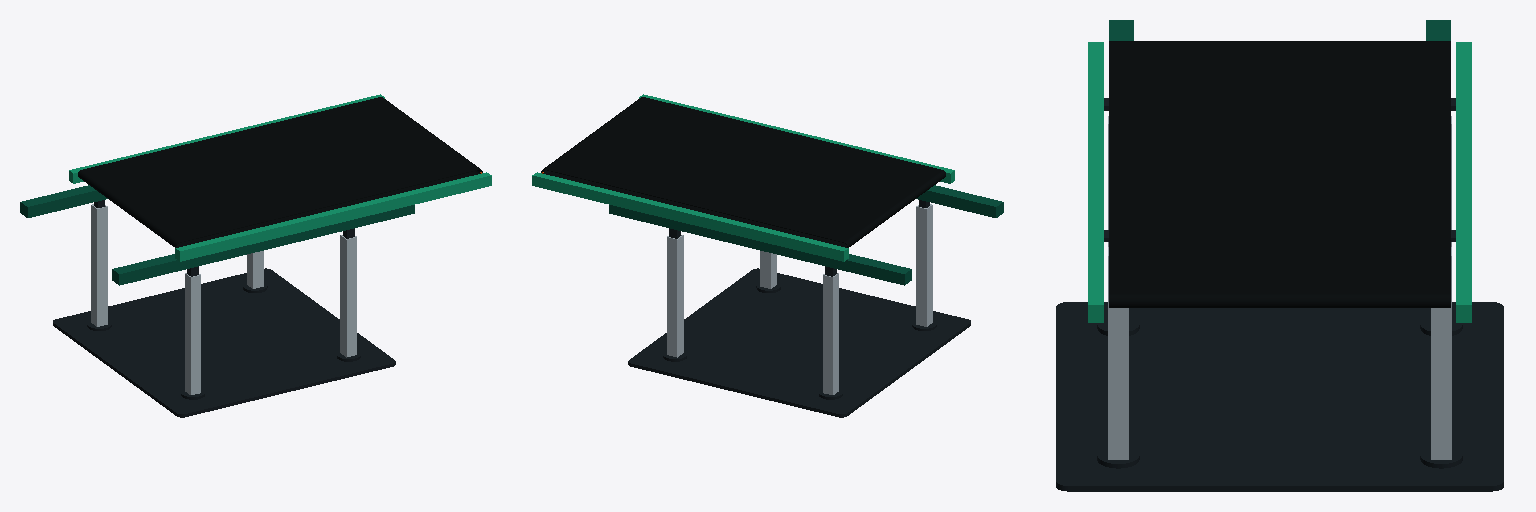
The robot description file, URDF, robot "bellybot_dock_stack_C":
<?xml version='1.0' encoding='utf-8'?>
<robot name="bellybot_dock_stack_C">
  <!--Explicit SI joints by default; independent nested stages. CAD-derived inertia uses assigned link mass, not hardware measurement.-->
  <link name="infeed_base">
    <inertial>
      <origin xyz="-1.55 -5.877920134e-18 0.0235225214" rpy="0 0 0" />
      <mass value="24" />
      <inertia ixx="1.2068316368399978" iyy="1.1424177104143443" izz="2.1451712364846838" ixy="-6.159746811207409e-16" ixz="-1.2840512463079819e-15" iyz="1.9229885800391717e-16" />
    </inertial>
    <visual name="infeed_spreader">
      <geometry>
        <mesh filename="package://bellybot_dock_stack_description/meshes/infeed_spreader.stl" scale="0.001 0.001 0.001" />
      </geometry>
      <material name="dark">
        <color rgba="0.12 0.15 0.17 1" />
      </material>
    </visual>
    <visual name="infeed_leg_-1800_-260">
      <geometry>
        <mesh filename="package://bellybot_dock_stack_description/meshes/infeed_leg_-1800_-260.stl" scale="0.001 0.001 0.001" />
      </geometry>
      <material name="silver">
        <color rgba="0.68 0.73 0.76 1" />
      </material>
    </visual>
    <visual name="infeed_foot_-1800_-260">
      <geometry>
        <mesh filename="package://bellybot_dock_stack_description/meshes/infeed_foot_-1800_-260.stl" scale="0.001 0.001 0.001" />
      </geometry>
      <material name="dark">
        <color rgba="0.12 0.15 0.17 1" />
      </material>
    </visual>
    <visual name="infeed_leg_-1800_260">
      <geometry>
        <mesh filename="package://bellybot_dock_stack_description/meshes/infeed_leg_-1800_260.stl" scale="0.001 0.001 0.001" />
      </geometry>
      <material name="silver">
        <color rgba="0.68 0.73 0.76 1" />
      </material>
    </visual>
    <visual name="infeed_foot_-1800_260">
      <geometry>
        <mesh filename="package://bellybot_dock_stack_description/meshes/infeed_foot_-1800_260.stl" scale="0.001 0.001 0.001" />
      </geometry>
      <material name="dark">
        <color rgba="0.12 0.15 0.17 1" />
      </material>
    </visual>
    <visual name="infeed_leg_-1300_-260">
      <geometry>
        <mesh filename="package://bellybot_dock_stack_description/meshes/infeed_leg_-1300_-260.stl" scale="0.001 0.001 0.001" />
      </geometry>
      <material name="silver">
        <color rgba="0.68 0.73 0.76 1" />
      </material>
    </visual>
    <visual name="infeed_foot_-1300_-260">
      <geometry>
        <mesh filename="package://bellybot_dock_stack_description/meshes/infeed_foot_-1300_-260.stl" scale="0.001 0.001 0.001" />
      </geometry>
      <material name="dark">
        <color rgba="0.12 0.15 0.17 1" />
      </material>
    </visual>
    <visual name="infeed_leg_-1300_260">
      <geometry>
        <mesh filename="package://bellybot_dock_stack_description/meshes/infeed_leg_-1300_260.stl" scale="0.001 0.001 0.001" />
      </geometry>
      <material name="silver">
        <color rgba="0.68 0.73 0.76 1" />
      </material>
    </visual>
    <visual name="infeed_foot_-1300_260">
      <geometry>
        <mesh filename="package://bellybot_dock_stack_description/meshes/infeed_foot_-1300_260.stl" scale="0.001 0.001 0.001" />
      </geometry>
      <material name="dark">
        <color rgba="0.12 0.15 0.17 1" />
      </material>
    </visual>
    <collision name="infeed_base_collision_0">
      <origin xyz="-1.55 0 0.005" rpy="0 0 0" />
      <geometry>
        <box size="0.7 0.72 0.01" />
      </geometry>
    </collision>
    <collision name="infeed_base_collision_1">
      <origin xyz="-1.8 -0.2755 0.195" rpy="0 0 0" />
      <geometry>
        <box size="0.034 0.003 0.37" />
      </geometry>
    </collision>
    <collision name="infeed_base_collision_2">
      <origin xyz="-1.8 -0.2445 0.195" rpy="0 0 0" />
      <geometry>
        <box size="0.034 0.003 0.37" />
      </geometry>
    </collision>
    <collision name="infeed_base_collision_3">
      <origin xyz="-1.8155 -0.26 0.195" rpy="0 0 0" />
      <geometry>
        <box size="0.003 0.028 0.37" />
      </geometry>
    </collision>
    <collision name="infeed_base_collision_4">
      <origin xyz="-1.7845 -0.26 0.195" rpy="0 0 0" />
      <geometry>
        <box size="0.003 0.028 0.37" />
      </geometry>
    </collision>
    <collision name="infeed_base_collision_5">
      <origin xyz="-1.8 0.2445 0.195" rpy="0 0 0" />
      <geometry>
        <box size="0.034 0.003 0.37" />
      </geometry>
    </collision>
    <collision name="infeed_base_collision_6">
      <origin xyz="-1.8 0.2755 0.195" rpy="0 0 0" />
      <geometry>
        <box size="0.034 0.003 0.37" />
      </geometry>
    </collision>
    <collision name="infeed_base_collision_7">
      <origin xyz="-1.8155 0.26 0.195" rpy="0 0 0" />
      <geometry>
        <box size="0.003 0.028 0.37" />
      </geometry>
    </collision>
    <collision name="infeed_base_collision_8">
      <origin xyz="-1.7845 0.26 0.195" rpy="0 0 0" />
      <geometry>
        <box size="0.003 0.028 0.37" />
      </geometry>
    </collision>
    <collision name="infeed_base_collision_9">
      <origin xyz="-1.3 -0.2755 0.195" rpy="0 0 0" />
      <geometry>
        <box size="0.034 0.003 0.37" />
      </geometry>
    </collision>
    <collision name="infeed_base_collision_10">
      <origin xyz="-1.3 -0.2445 0.195" rpy="0 0 0" />
      <geometry>
        <box size="0.034 0.003 0.37" />
      </geometry>
    </collision>
    <collision name="infeed_base_collision_11">
      <origin xyz="-1.3155 -0.26 0.195" rpy="0 0 0" />
      <geometry>
        <box size="0.003 0.028 0.37" />
      </geometry>
    </collision>
    <collision name="infeed_base_collision_12">
      <origin xyz="-1.2845 -0.26 0.195" rpy="0 0 0" />
      <geometry>
        <box size="0.003 0.028 0.37" />
      </geometry>
    </collision>
    <collision name="infeed_base_collision_13">
      <origin xyz="-1.3 0.2445 0.195" rpy="0 0 0" />
      <geometry>
        <box size="0.034 0.003 0.37" />
      </geometry>
    </collision>
    <collision name="infeed_base_collision_14">
      <origin xyz="-1.3 0.2755 0.195" rpy="0 0 0" />
      <geometry>
        <box size="0.034 0.003 0.37" />
      </geometry>
    </collision>
    <collision name="infeed_base_collision_15">
      <origin xyz="-1.3155 0.26 0.195" rpy="0 0 0" />
      <geometry>
        <box size="0.003 0.028 0.37" />
      </geometry>
    </collision>
    <collision name="infeed_base_collision_16">
      <origin xyz="-1.2845 0.26 0.195" rpy="0 0 0" />
      <geometry>
        <box size="0.003 0.028 0.37" />
      </geometry>
    </collision>
  </link>
  <link name="infeed_lift">
    <inertial>
      <origin xyz="-1.565245999 0 0.3834024944" rpy="0 0 0" />
      <mass value="6" />
      <inertia ixx="0.4436658999461621" iyy="0.48279384397296726" izz="0.8281294701857301" ixy="-2.0989668112935023e-16" ixz="0.0038051732636004594" iyz="-7.871125542350633e-17" />
    </inertial>
    <visual name="infeed_inner_leg_-1800_-260">
      <geometry>
        <mesh filename="package://bellybot_dock_stack_description/meshes/infeed_inner_leg_-1800_-260.stl" scale="0.001 0.001 0.001" />
      </geometry>
      <material name="dark">
        <color rgba="0.12 0.15 0.17 1" />
      </material>
    </visual>
    <visual name="infeed_inner_leg_-1800_260">
      <geometry>
        <mesh filename="package://bellybot_dock_stack_description/meshes/infeed_inner_leg_-1800_260.stl" scale="0.001 0.001 0.001" />
      </geometry>
      <material name="dark">
        <color rgba="0.12 0.15 0.17 1" />
      </material>
    </visual>
    <visual name="infeed_inner_leg_-1300_-260">
      <geometry>
        <mesh filename="package://bellybot_dock_stack_description/meshes/infeed_inner_leg_-1300_-260.stl" scale="0.001 0.001 0.001" />
      </geometry>
      <material name="dark">
        <color rgba="0.12 0.15 0.17 1" />
      </material>
    </visual>
    <visual name="infeed_inner_leg_-1300_260">
      <geometry>
        <mesh filename="package://bellybot_dock_stack_description/meshes/infeed_inner_leg_-1300_260.stl" scale="0.001 0.001 0.001" />
      </geometry>
      <material name="dark">
        <color rgba="0.12 0.15 0.17 1" />
      </material>
    </visual>
    <visual name="infeed_fixed_rail_-255">
      <geometry>
        <mesh filename="package://bellybot_dock_stack_description/meshes/infeed_fixed_rail_-255.stl" scale="0.001 0.001 0.001" />
      </geometry>
      <material name="teal_dark">
        <color rgba="0.07 0.35 0.28 1" />
      </material>
    </visual>
    <visual name="infeed_fixed_rail_255">
      <geometry>
        <mesh filename="package://bellybot_dock_stack_description/meshes/infeed_fixed_rail_255.stl" scale="0.001 0.001 0.001" />
      </geometry>
      <material name="teal_dark">
        <color rgba="0.07 0.35 0.28 1" />
      </material>
    </visual>
    <collision name="infeed_lift_collision_0">
      <origin xyz="-1.8 -0.26 0.25" rpy="0 0 0" />
      <geometry>
        <box size="0.024 0.024 0.36" />
      </geometry>
    </collision>
    <collision name="infeed_lift_collision_1">
      <origin xyz="-1.8 0.26 0.25" rpy="0 0 0" />
      <geometry>
        <box size="0.024 0.024 0.36" />
      </geometry>
    </collision>
    <collision name="infeed_lift_collision_2">
      <origin xyz="-1.3 -0.26 0.25" rpy="0 0 0" />
      <geometry>
        <box size="0.024 0.024 0.36" />
      </geometry>
    </collision>
    <collision name="infeed_lift_collision_3">
      <origin xyz="-1.3 0.26 0.25" rpy="0 0 0" />
      <geometry>
        <box size="0.024 0.024 0.36" />
      </geometry>
    </collision>
    <collision name="infeed_lift_collision_4">
      <origin xyz="-1.57 -0.255 0.425" rpy="0 0 0" />
      <geometry>
        <box size="0.95 0.04 0.035" />
      </geometry>
    </collision>
    <collision name="infeed_lift_collision_5">
      <origin xyz="-1.57 0.255 0.425" rpy="0 0 0" />
      <geometry>
        <box size="0.95 0.04 0.035" />
      </geometry>
    </collision>
  </link>
  <joint name="infeed_lift_joint" type="prismatic">
    <parent link="infeed_base" />
    <child link="infeed_lift" />
    <origin xyz="0 0 0" rpy="0 0 0" />
    <axis xyz="0 0 1" />
    <limit velocity="0.12" effort="2000" lower="0" upper="0.25" />
    <dynamics damping="4" friction="0" />
  </joint>
  <link name="infeed_carriage">
    <inertial>
      <origin xyz="-1.401182502 1.418651882e-16 0.4640574163" rpy="0 0 0" />
      <mass value="8" />
      <inertia ixx="0.6097979520435641" iyy="0.5895788149414166" izz="1.1975210749144196" ixy="6.790347573042703e-16" ixz="-0.002680953274879483" iyz="9.525278955185108e-17" />
    </inertial>
    <visual name="infeed_sideframe_-296">
      <geometry>
        <mesh filename="package://bellybot_dock_stack_description/meshes/infeed_sideframe_-296.stl" scale="0.001 0.001 0.001" />
      </geometry>
      <material name="teal">
        <color rgba="0.114 0.62 0.459 1" />
      </material>
    </visual>
    <visual name="infeed_slide_runner_-296">
      <geometry>
        <mesh filename="package://bellybot_dock_stack_description/meshes/infeed_slide_runner_-296.stl" scale="0.001 0.001 0.001" />
      </geometry>
      <material name="silver">
        <color rgba="0.68 0.73 0.76 1" />
      </material>
    </visual>
    <visual name="infeed_sideframe_296">
      <geometry>
        <mesh filename="package://bellybot_dock_stack_description/meshes/infeed_sideframe_296.stl" scale="0.001 0.001 0.001" />
      </geometry>
      <material name="teal">
        <color rgba="0.114 0.62 0.459 1" />
      </material>
    </visual>
    <visual name="infeed_slide_runner_296">
      <geometry>
        <mesh filename="package://bellybot_dock_stack_description/meshes/infeed_slide_runner_296.stl" scale="0.001 0.001 0.001" />
      </geometry>
      <material name="silver">
        <color rgba="0.68 0.73 0.76 1" />
      </material>
    </visual>
    <visual name="infeed_crossbar_-1700">
      <geometry>
        <mesh filename="package://bellybot_dock_stack_description/meshes/infeed_crossbar_-1700.stl" scale="0.001 0.001 0.001" />
      </geometry>
      <material name="dark">
        <color rgba="0.12 0.15 0.17 1" />
      </material>
    </visual>
    <visual name="infeed_crossbar_-1200">
      <geometry>
        <mesh filename="package://bellybot_dock_stack_description/meshes/infeed_crossbar_-1200.stl" scale="0.001 0.001 0.001" />
      </geometry>
      <material name="dark">
        <color rgba="0.12 0.15 0.17 1" />
      </material>
    </visual>
    <collision name="infeed_carriage_collision_0">
      <origin xyz="-1.37 -0.296 0.469" rpy="0 0 0" />
      <geometry>
        <box size="1 0.025 0.032" />
      </geometry>
    </collision>
    <collision name="infeed_carriage_collision_1">
      <origin xyz="-1.37 0.296 0.469" rpy="0 0 0" />
      <geometry>
        <box size="1 0.025 0.032" />
      </geometry>
    </collision>
  </link>
  <joint name="infeed_extension_joint" type="prismatic">
    <parent link="infeed_lift" />
    <child link="infeed_carriage" />
    <origin xyz="0 0 0" rpy="0 0 0" />
    <axis xyz="1 0 0" />
    <limit velocity="0.12" effort="800" lower="0" upper="0.4" />
    <dynamics damping="4" friction="0" />
  </joint>
  <link name="infeed_belt">
    <inertial>
      <origin xyz="-1.37 1.021548019e-17 0.483" rpy="0 0 0" />
      <mass value="1" />
      <inertia ixx="0.025327570286835223" iyy="0.08249267322965806" izz="0.10758176960948891" ixy="-4.767224087294237e-20" ixz="1.1158028492316222e-16" iyz="-2.9624892542465474e-19" />
    </inertial>
    <visual name="infeed_belt_loop">
      <geometry>
        <mesh filename="package://bellybot_dock_stack_description/meshes/infeed_belt_loop.stl" scale="0.001 0.001 0.001" />
      </geometry>
      <material name="rubber">
        <color rgba="0.07 0.085 0.09 1" />
      </material>
    </visual>
    <collision name="infeed_belt_collision_0">
      <origin xyz="-1.37 0 0.494" rpy="0 0 0" />
      <geometry>
        <box size="0.96 0.55 0.002" />
      </geometry>
    </collision>
  </link>
  <joint name="infeed_belt_mount" type="fixed">
    <parent link="infeed_carriage" />
    <child link="infeed_belt" />
    <origin xyz="0 0 0" rpy="0 0 0" />
  </joint>
  <link name="infeed_rear_roller">
    <inertial>
      <origin xyz="1.751313485e-06 0 2.11253032e-20" rpy="0 0 0" />
      <mass value="0.5" />
      <inertia ixx="0.012532547869235256" iyy="2.4998247152965567e-05" izz="0.012532553121642162" ixy="1.3520194045819096e-20" ixz="-3.020899858598522e-21" iyz="5.408077618327639e-21" />
    </inertial>
    <visual name="infeed_rear_roller_drum">
      <geometry>
        <mesh filename="package://bellybot_dock_stack_description/meshes/infeed_rear_roller_drum.stl" scale="0.001 0.001 0.001" />
      </geometry>
      <material name="silver">
        <color rgba="0.68 0.73 0.76 1" />
      </material>
    </visual>
    <visual name="infeed_rear_roller_index">
      <geometry>
        <mesh filename="package://bellybot_dock_stack_description/meshes/infeed_rear_roller_index.stl" scale="0.001 0.001 0.001" />
      </geometry>
      <material name="orange">
        <color rgba="0.96 0.39 0.06 1" />
      </material>
    </visual>
  </link>
  <joint name="infeed_rear_roller_joint" type="continuous">
    <parent link="infeed_carriage" />
    <child link="infeed_rear_roller" />
    <origin xyz="-1.85 0 0.483" rpy="0 0 0" />
    <axis xyz="0 1 0" />
    <limit velocity="165" effort="20" />
    <dynamics damping=".02" friction="0" />
  </joint>
  <link name="infeed_front_roller">
    <inertial>
      <origin xyz="1.751313485e-06 0 2.11253032e-20" rpy="0 0 0" />
      <mass value="0.5" />
      <inertia ixx="0.012532547869235256" iyy="2.4998247152965567e-05" izz="0.012532553121642162" ixy="1.3520194045819096e-20" ixz="-3.020899858598522e-21" iyz="5.408077618327639e-21" />
    </inertial>
    <visual name="infeed_front_roller_drum">
      <geometry>
        <mesh filename="package://bellybot_dock_stack_description/meshes/infeed_front_roller_drum.stl" scale="0.001 0.001 0.001" />
      </geometry>
      <material name="silver">
        <color rgba="0.68 0.73 0.76 1" />
      </material>
    </visual>
    <visual name="infeed_front_roller_index">
      <geometry>
        <mesh filename="package://bellybot_dock_stack_description/meshes/infeed_front_roller_index.stl" scale="0.001 0.001 0.001" />
      </geometry>
      <material name="orange">
        <color rgba="0.96 0.39 0.06 1" />
      </material>
    </visual>
  </link>
  <joint name="infeed_front_roller_joint" type="continuous">
    <parent link="infeed_carriage" />
    <child link="infeed_front_roller" />
    <origin xyz="-0.89 0 0.483" rpy="0 0 0" />
    <axis xyz="0 1 0" />
    <limit velocity="165" effort="20" />
    <dynamics damping=".02" friction="0" />
  </joint>
</robot>

--- Facts derived from the render (not from the file) ---
The picture shows the robot from 3 angles, left to right: view 1: azimuth 30°, elevation 25°; view 2: azimuth 150°, elevation 25°; view 3: azimuth 270°, elevation 25°; orthographic projection.
Model bellybot_dock_stack_C with 6 links and 5 joints (2 continuous, 2 prismatic, 1 fixed), rooted at infeed_base, posed every joint at zero.
Links seen in each view (by area): view 1: infeed_base, infeed_belt, infeed_carriage, infeed_lift; view 2: infeed_base, infeed_belt, infeed_carriage, infeed_lift; view 3: infeed_belt, infeed_base, infeed_carriage, infeed_lift.
Boxes of the visible links, box(x1,y1,x2,y2) form: infeed_base: box(53, 204, 395, 417); infeed_belt: box(78, 97, 482, 247); infeed_carriage: box(69, 94, 491, 261); infeed_lift: box(20, 185, 414, 285); infeed_base: box(628, 204, 970, 417); infeed_belt: box(541, 97, 945, 247); infeed_carriage: box(532, 94, 954, 261); infeed_lift: box(609, 185, 1003, 285); infeed_belt: box(1109, 41, 1450, 307); infeed_base: box(1056, 116, 1503, 491); infeed_carriage: box(1088, 42, 1471, 322); infeed_lift: box(1109, 20, 1450, 40).
Size in the robot's own frame: 1.18 by 0.72 by 0.495 metres.
Meshes: 26 distinct files referenced, 23 mesh visuals loaded (23 binary STL); not drawn: 3 (reference not matched to a file when rendering).
